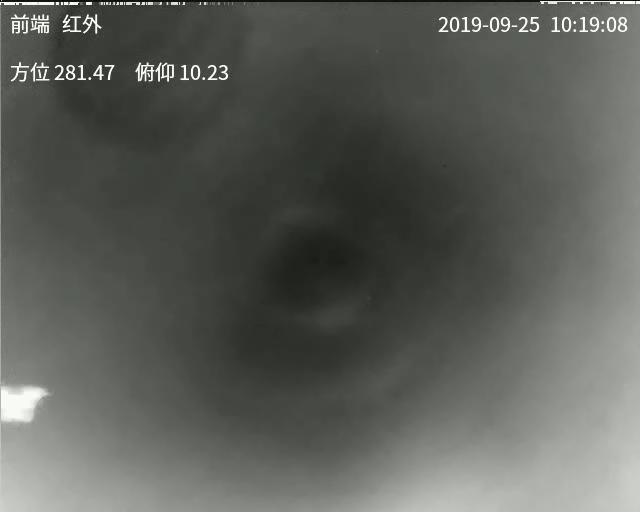uav: (0, 381, 52, 425)
